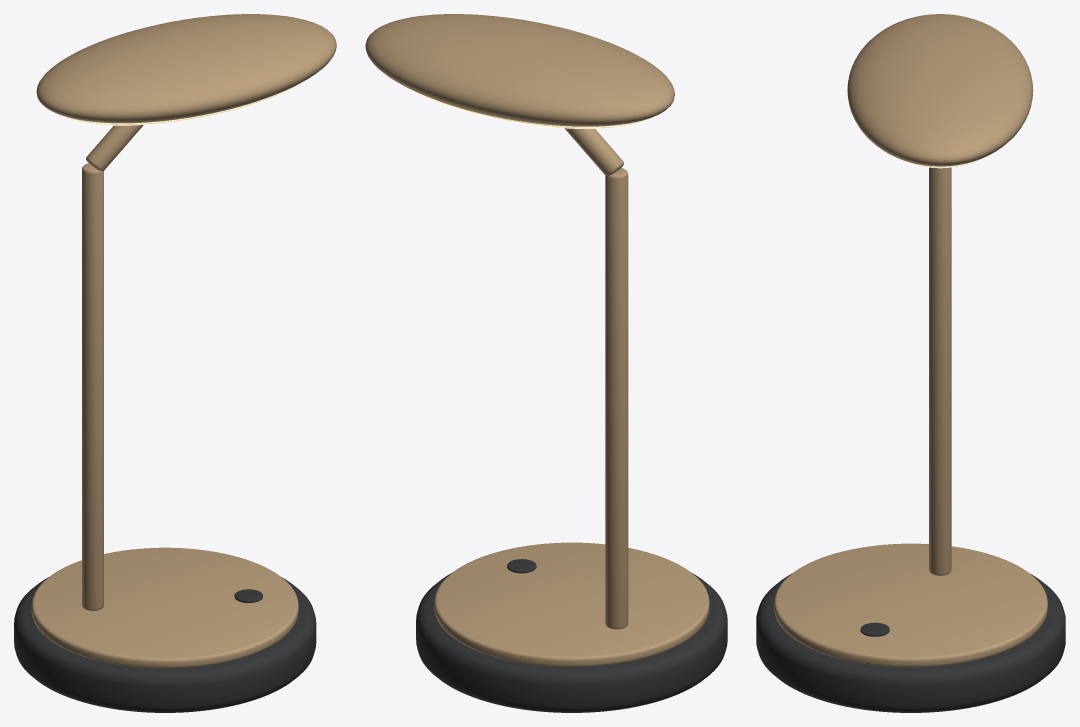
File: 01-lampa-led.glb
3 views of the same model, side by side, from view 1: azimuth 30°, elevation 25°; view 2: azimuth 150°, elevation 25°; view 3: azimuth 270°, elevation 25° (orthographic). The views are drawn at different scales.
Parts seen in each view (by area): view 1: Champagne inset base, Elliptic LED head, Weighted round base, Slender upright, Angled head support, Recessed opal emitter; view 2: Champagne inset base, Elliptic LED head, Weighted round base, Slender upright, Angled head support, Recessed opal emitter; view 3: Champagne inset base, Elliptic LED head, Weighted round base, Slender upright.
Boxes of the visible parts, box(x1,y1,x2,y2) form: Champagne inset base: box(31, 547, 298, 668); Elliptic LED head: box(36, 14, 336, 123); Weighted round base: box(14, 577, 316, 712); Slender upright: box(82, 163, 103, 610); Angled head support: box(86, 125, 143, 170); Recessed opal emitter: box(68, 86, 295, 125); Champagne inset base: box(434, 542, 709, 666); Elliptic LED head: box(365, 14, 674, 126); Weighted round base: box(416, 572, 727, 712); Slender upright: box(605, 168, 628, 629); Angled head support: box(564, 128, 623, 175); Recessed opal emitter: box(406, 87, 643, 128); Champagne inset base: box(774, 543, 1047, 667); Elliptic LED head: box(847, 14, 1033, 166); Weighted round base: box(756, 573, 1065, 712); Slender upright: box(929, 167, 951, 575).
Bounding box in the file's own units: 0.225 × 0.41 × 0.19.
